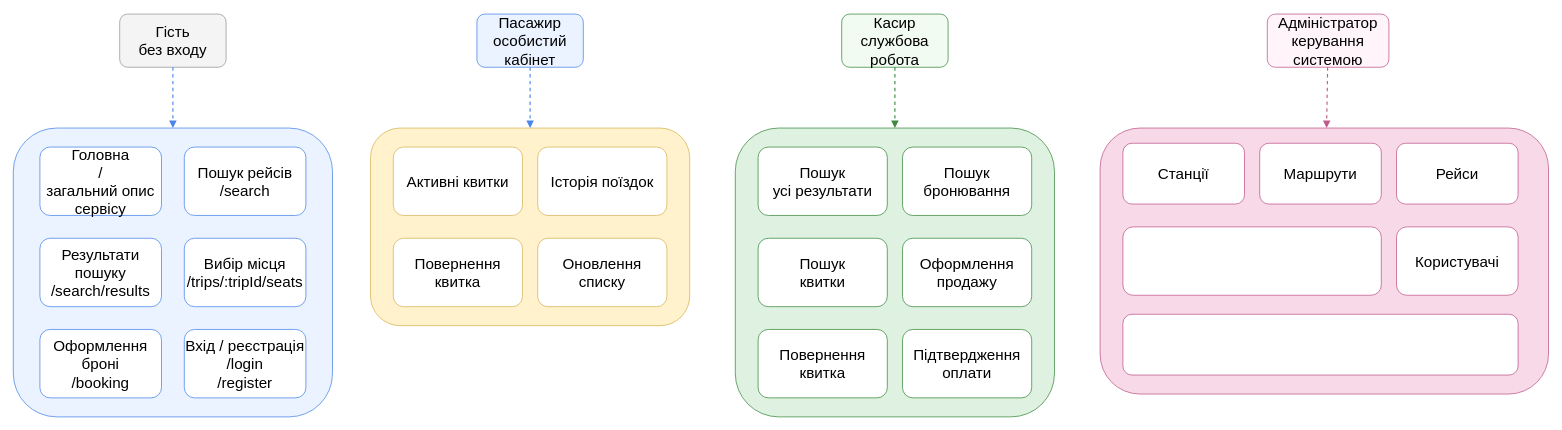
Some shapes in this 1562 by 430 pixel diagram are drawn without their labels. The centre of each missing label's shape, as x and y in pixels:
"Журнал операцій" goes at [1320,344].
"Рухомий склад поїзди, вагони, місця" goes at [1251,260].
